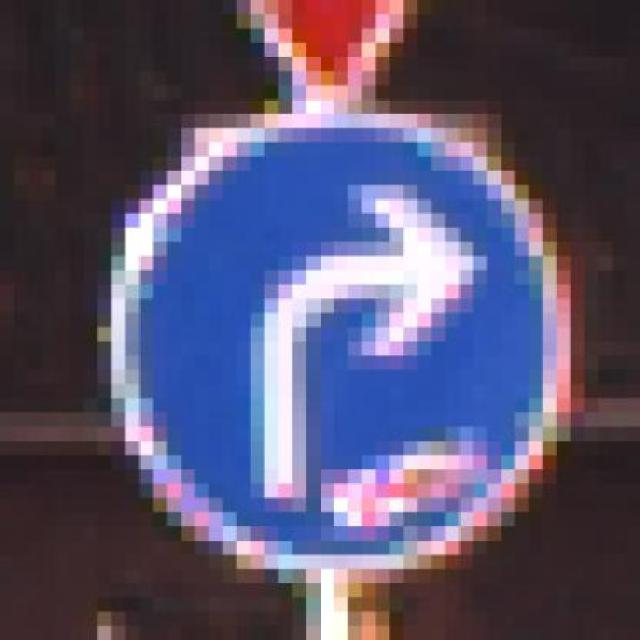Turn right ahead: (83, 86, 585, 612)
